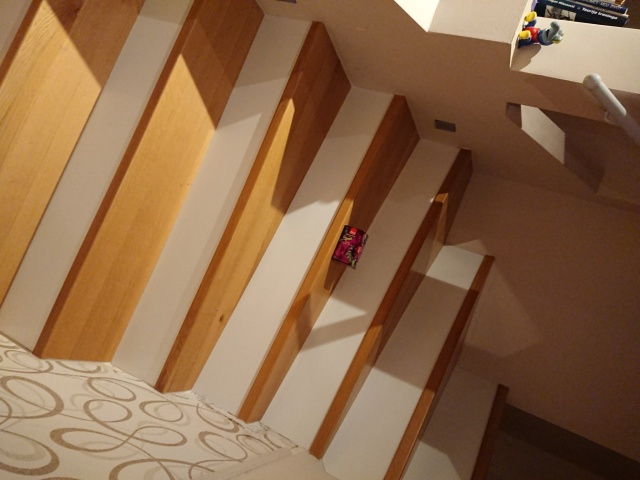Franck Black Currant Tea 60g: (329, 222, 371, 271)
